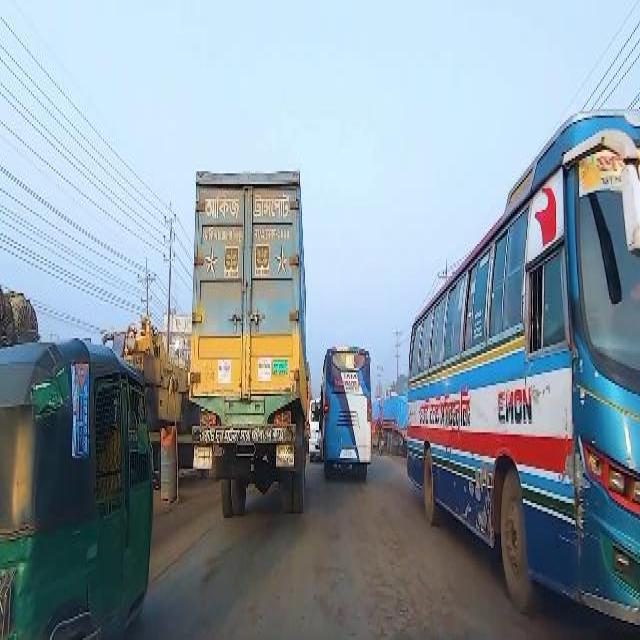13: (371, 417, 383, 454)
17: (2, 338, 154, 636)
18: (190, 164, 304, 515), (378, 397, 406, 453)
9: (308, 397, 320, 461)
Truck: (407, 104, 639, 622), (321, 346, 371, 478)
